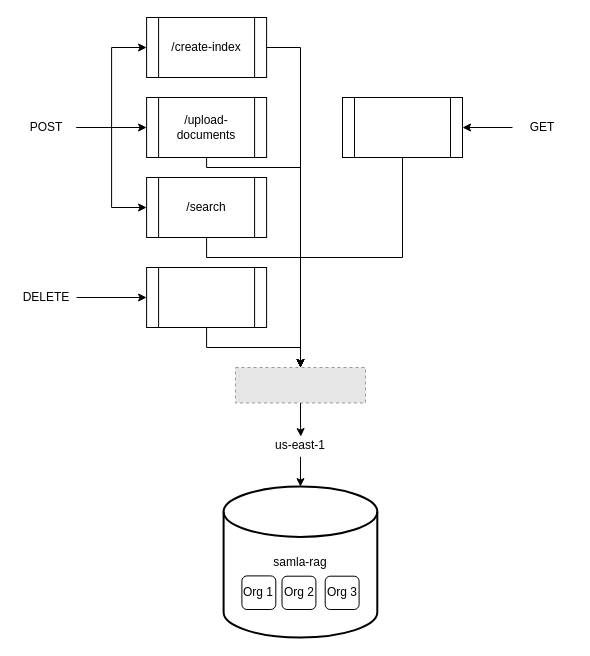
Image size: 590x656. Some labels were removed from this diagram. Grey dashed boxes stand in for pictures. Here are the shapes that lost their labels. From the top down, the centre of each, then its label:
At point 402,127: "/list-indexes".
At point 206,297: "/delete-documents".
